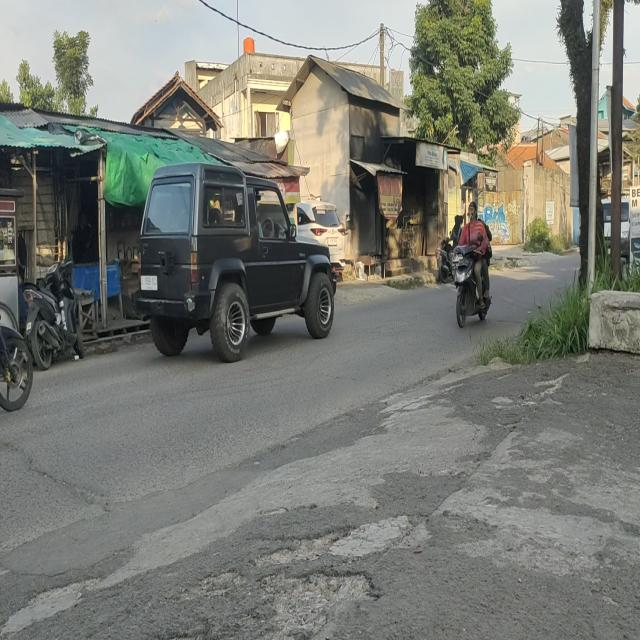no-helmet: (468, 201, 479, 221)
